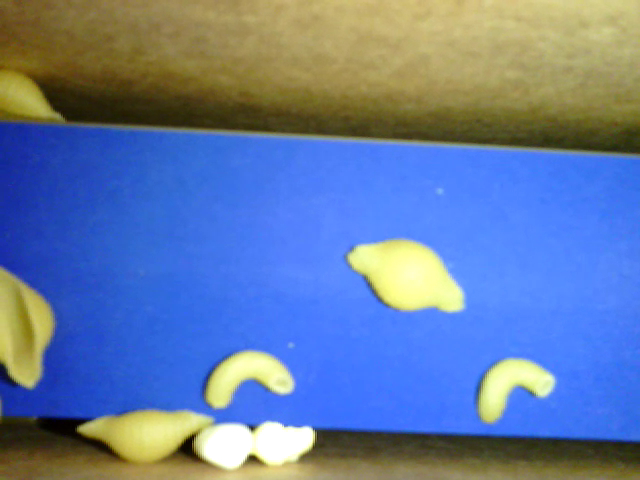elbow: (201, 349, 294, 412), (480, 357, 555, 425)
shell: (348, 237, 472, 320), (76, 410, 215, 465), (1, 267, 57, 397), (3, 67, 68, 125)
